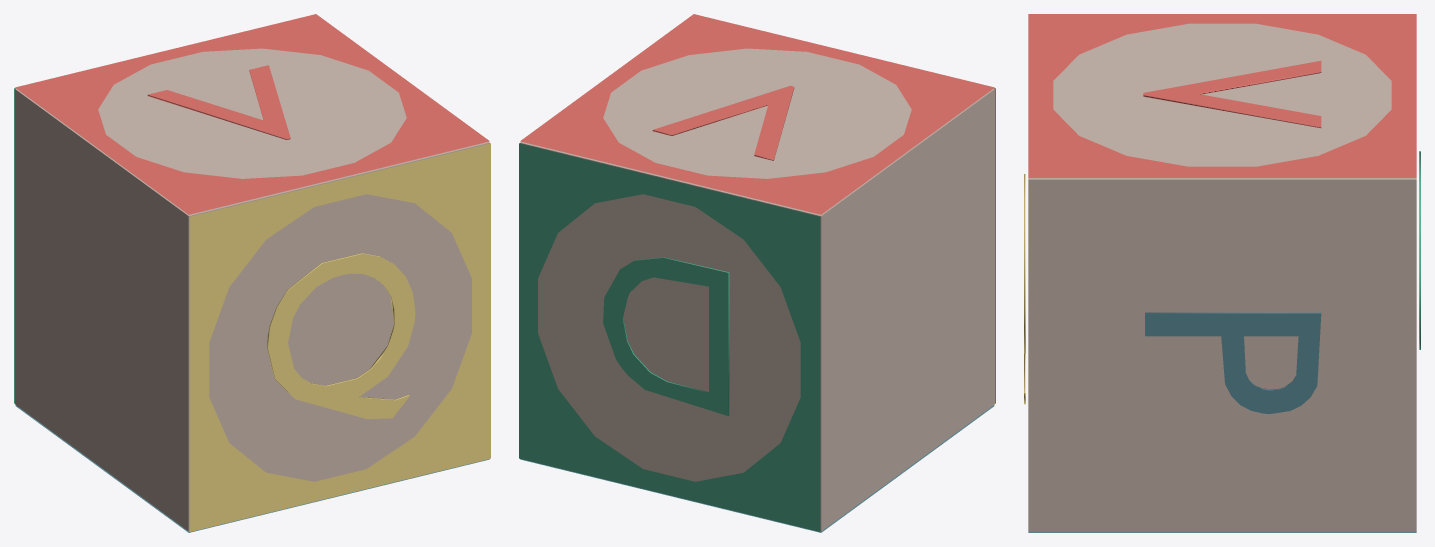
3 views of the same model, side by side, from view 1: azimuth 30°, elevation 25°; view 2: azimuth 150°, elevation 25°; view 3: azimuth 270°, elevation 25° (orthographic). The views are drawn at different scales.
Parts seen in each view (by area): view 1: cube; view 2: cube; view 3: cube.
Part boxes in pixels (bbox=[...]): cube: bbox=[14, 14, 490, 532]; cube: bbox=[519, 14, 995, 532]; cube: bbox=[1024, 14, 1420, 532].
Bounding box in the file's own units: 0.0453 × 0.046 × 0.046.
